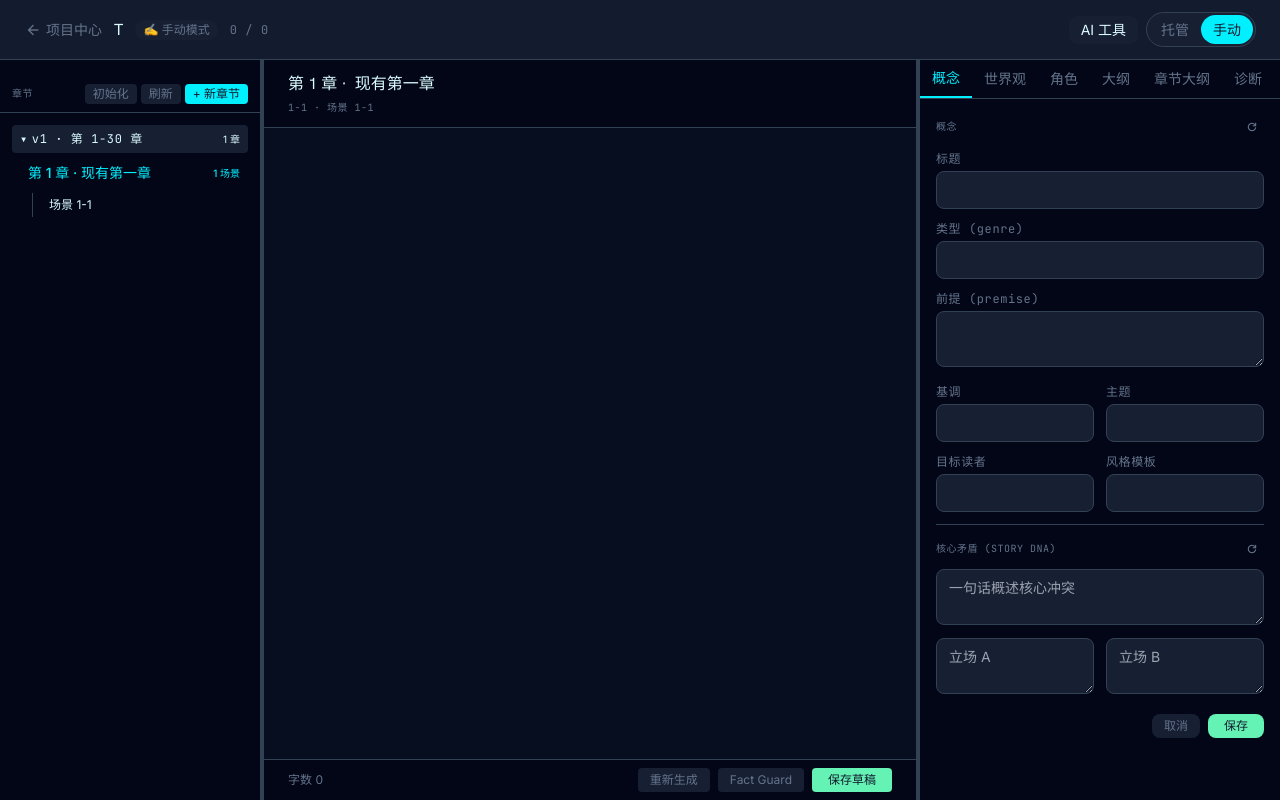
Test: Workspace integration › 'manual mode' + 新章节 opens AddChaptersModal
Check: the button with test id "chapter-1" is shown, box [20,157,248,189]
Click the button with test id "add-chapter" at (216, 94), box [185,84,248,104]
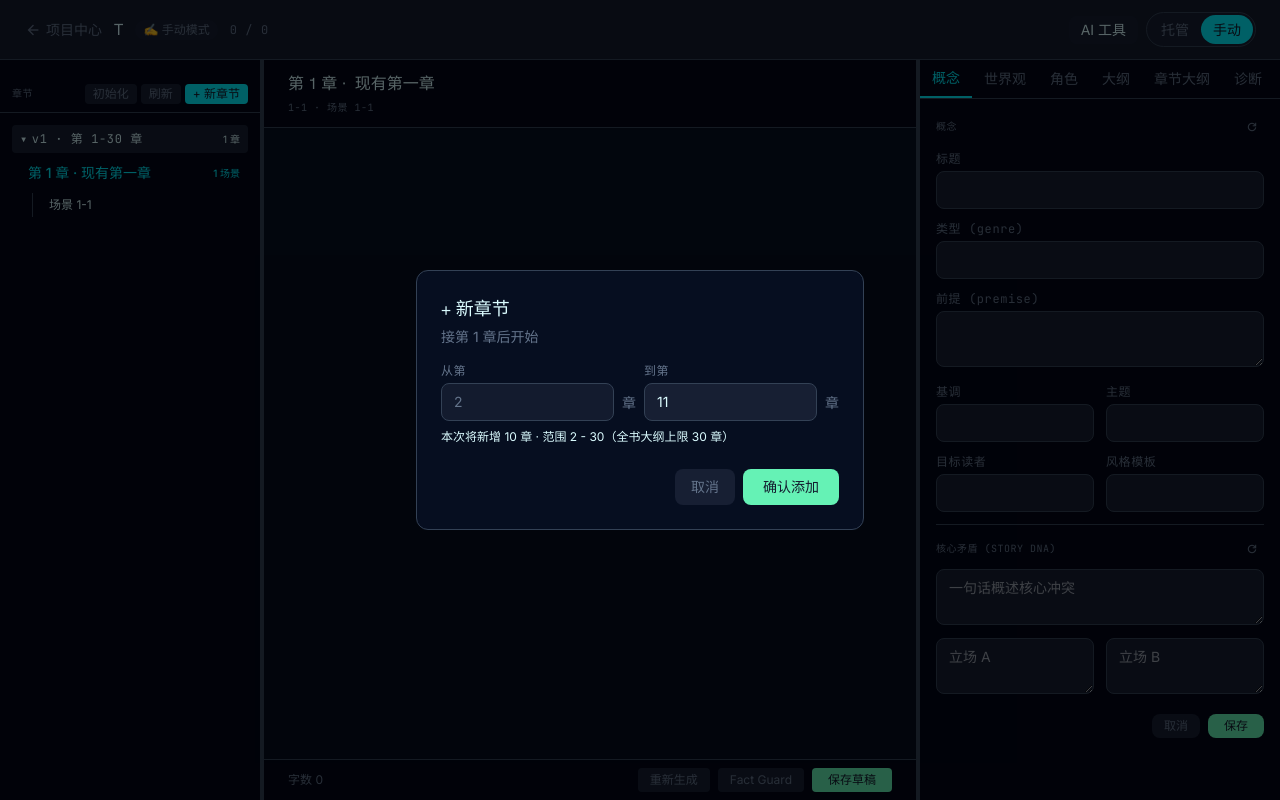
Check: the element with test id "add-chapters-modal" is shown
Check: the text with test id "add-chapters-start-display" reads "2", box [454,393,462,410]
